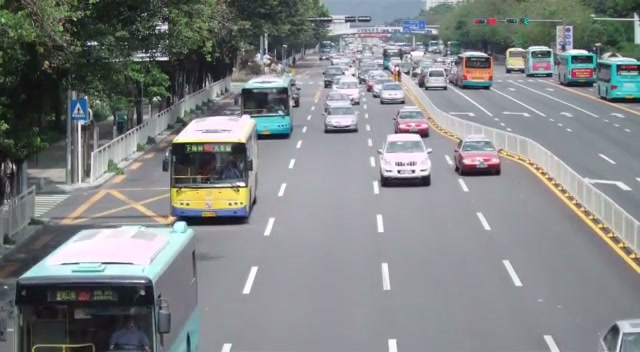bus: (13, 217, 200, 352), (168, 115, 259, 221), (240, 74, 294, 139), (596, 55, 640, 101), (452, 51, 494, 88), (557, 49, 597, 86), (525, 46, 555, 78), (505, 48, 526, 73)
car: (377, 132, 432, 186), (452, 137, 502, 176), (597, 319, 640, 352), (392, 106, 431, 139), (323, 99, 359, 133), (378, 82, 406, 104), (424, 68, 448, 91)
pedestrian: (108, 313, 151, 352), (220, 155, 241, 179)
truck: (526, 46, 554, 78)
